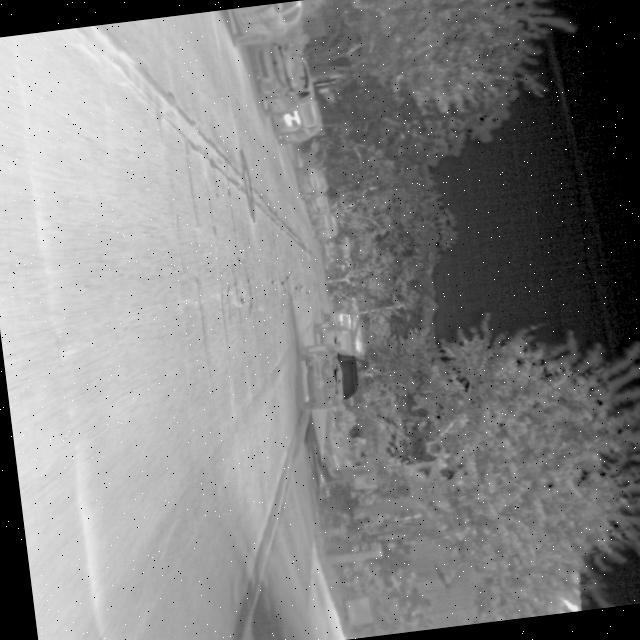Vehicle: (290, 333, 368, 415), (248, 36, 318, 119), (217, 0, 309, 50), (264, 90, 325, 148), (310, 313, 356, 339)
